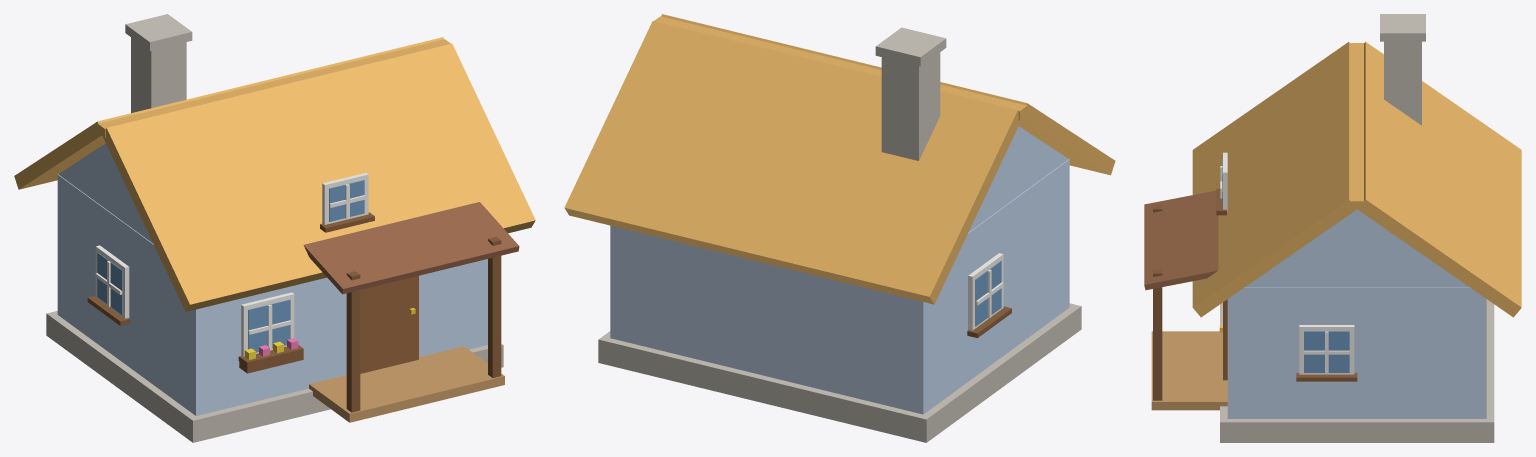
File: house.obj
3 views of the same model, side by side, from view 1: azimuth 30°, elevation 25°; view 2: azimuth 150°, elevation 25°; view 3: azimuth 270°, elevation 25° (orthographic). The views are drawn at different scales.
Parts seen in each view (by area): view 1: roof, walls, glow; view 2: roof, walls, glow; view 3: walls, roof, glow.
Part boxes in pixels (left/top/right/bottom): roof: left=14, top=37, right=535, bottom=311; walls: left=46, top=14, right=504, bottom=442; glow: left=97, top=180, right=364, bottom=352; roof: left=564, top=14, right=1115, bottom=304; walls: left=598, top=27, right=1081, bottom=442; glow: left=975, top=260, right=1001, bottom=326; walls: left=1151, top=14, right=1494, bottom=442; roof: left=1144, top=41, right=1521, bottom=317; glow: left=1222, top=158, right=1349, bottom=372.
Size of the model in its own units: 4.92 by 4.44 by 4.96.
